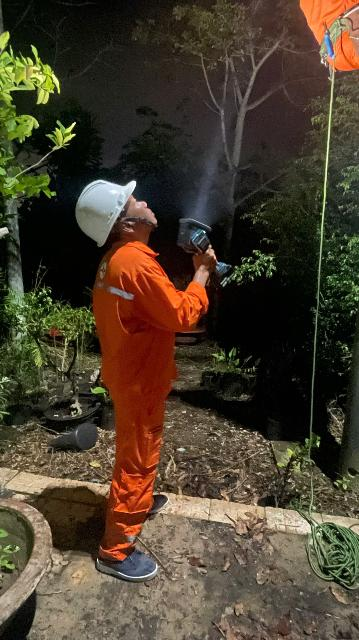helmet: (64, 177, 150, 244)
shoes: (92, 543, 172, 591), (137, 493, 178, 518)
